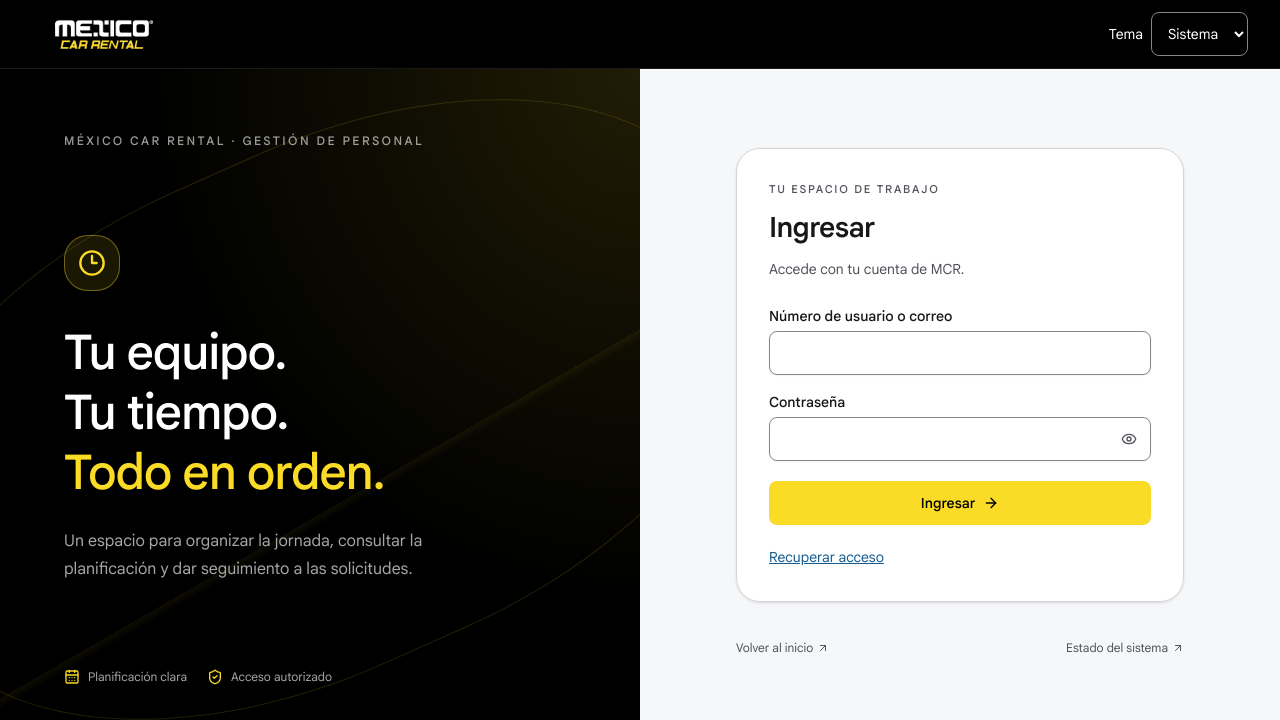
Test: distingue un rechazo del origen de una contraseña incorrecta
The image size is (1280, 720).
Type "admin@example.com" into the field labelled "Número de usuario o correo" at (960, 353), box [769,331,1151,375]
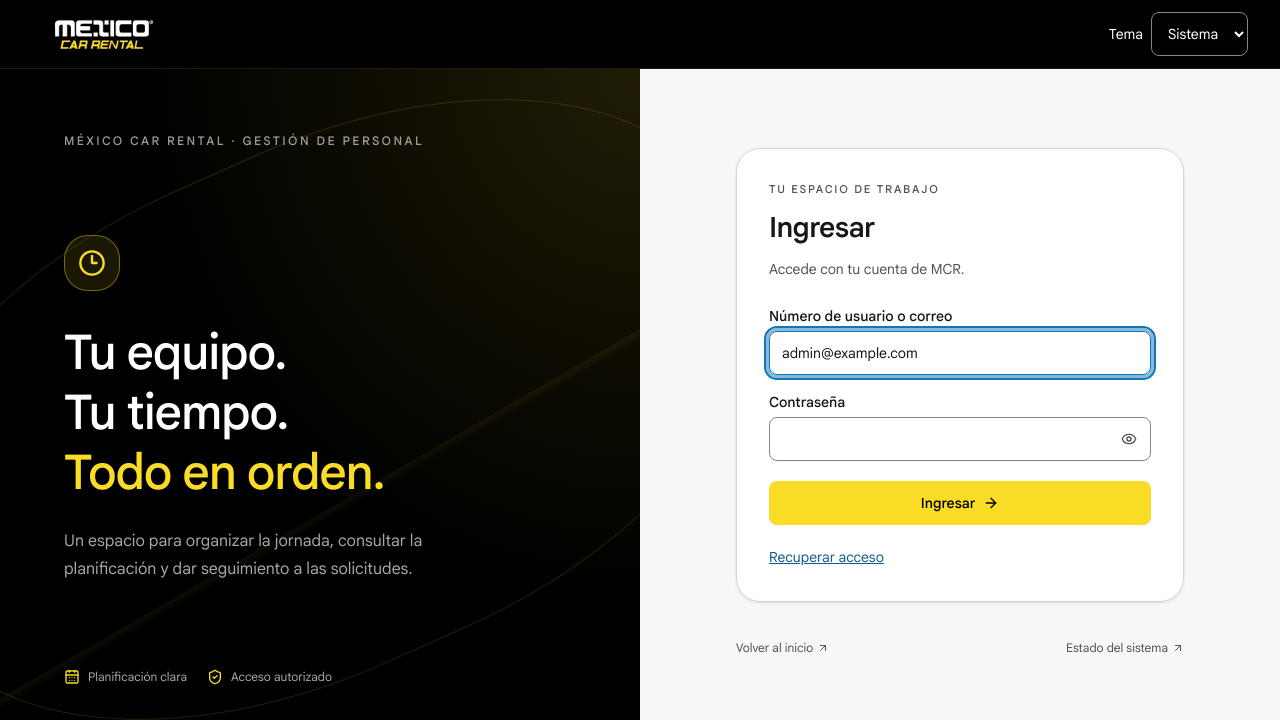
Type "contraseña-larga" into the password field labelled "Contraseña" at (960, 439), box [769,417,1151,461]
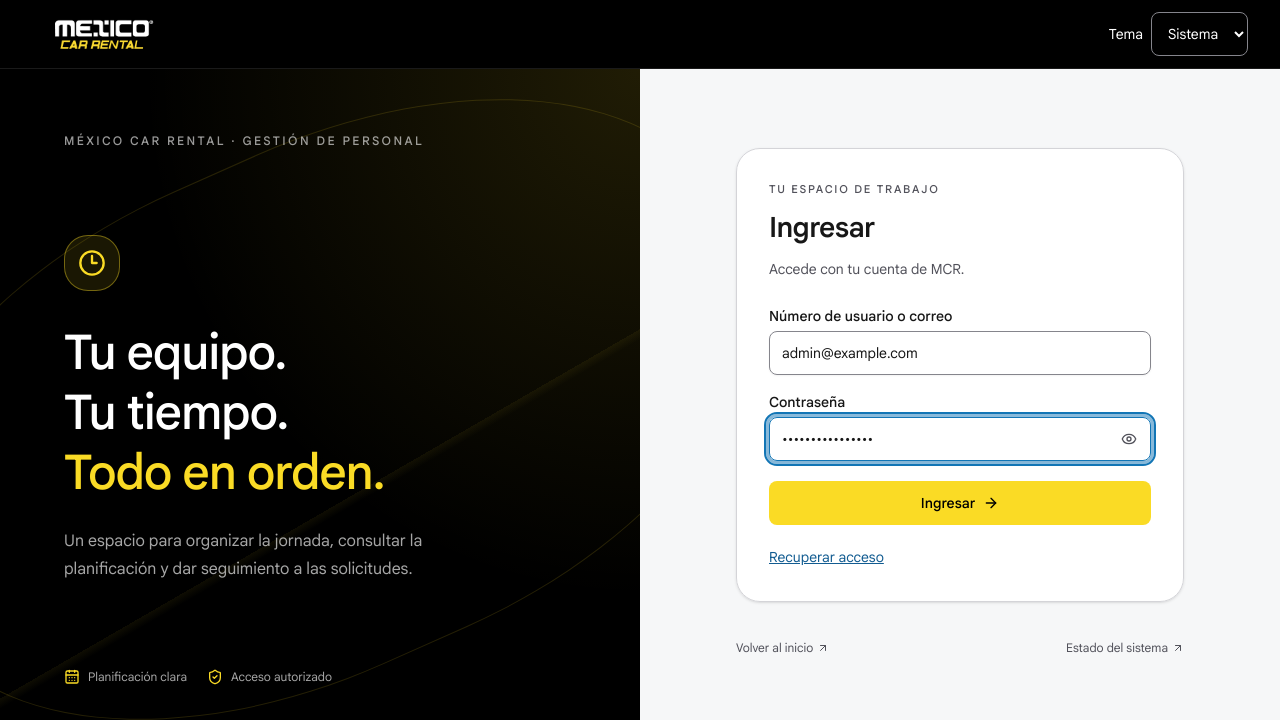
Click the button "Ingresar" at (960, 503), box [769,481,1151,525]
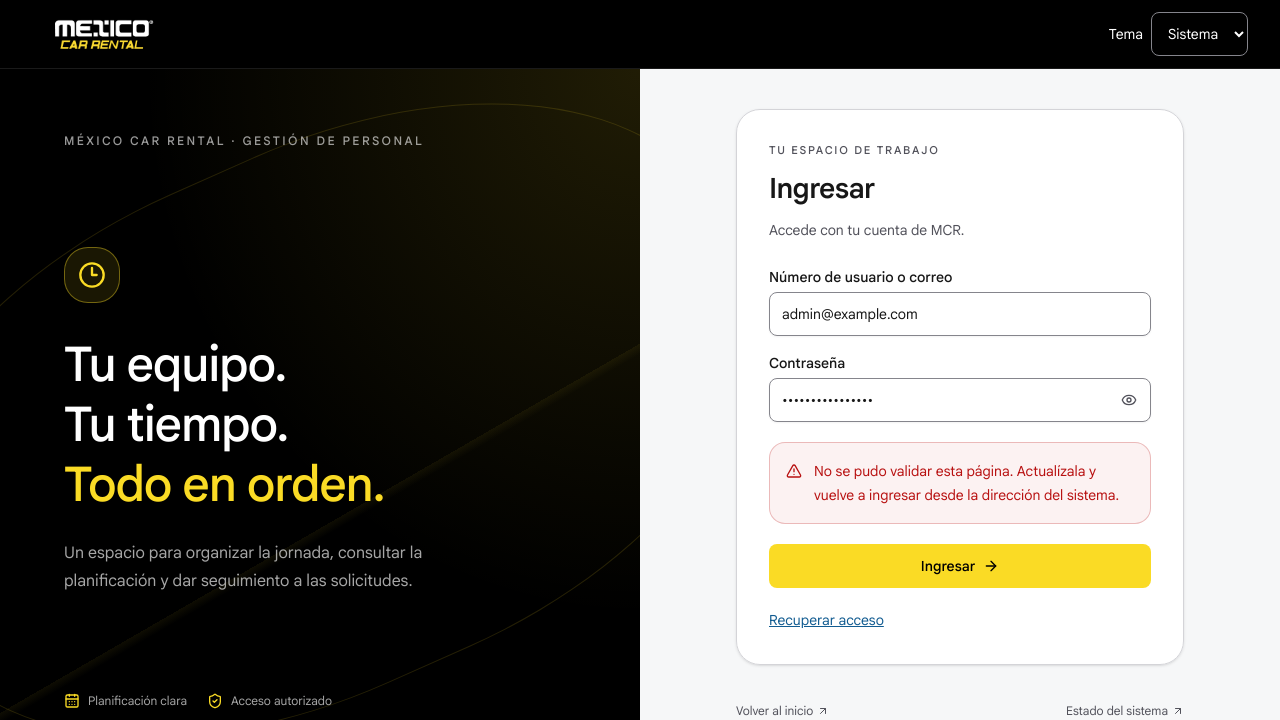
Check: the message does not show "Revisa tu usuario y contraseña", box [769,442,1151,524]
Check: the message shows "No se pudo validar esta página", box [814,462,1119,504]
